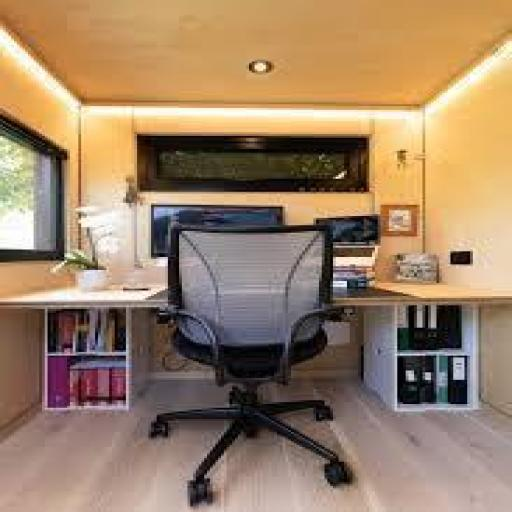chair: (140, 215, 361, 511)
